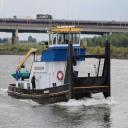tugboat: (6, 26, 114, 106)
